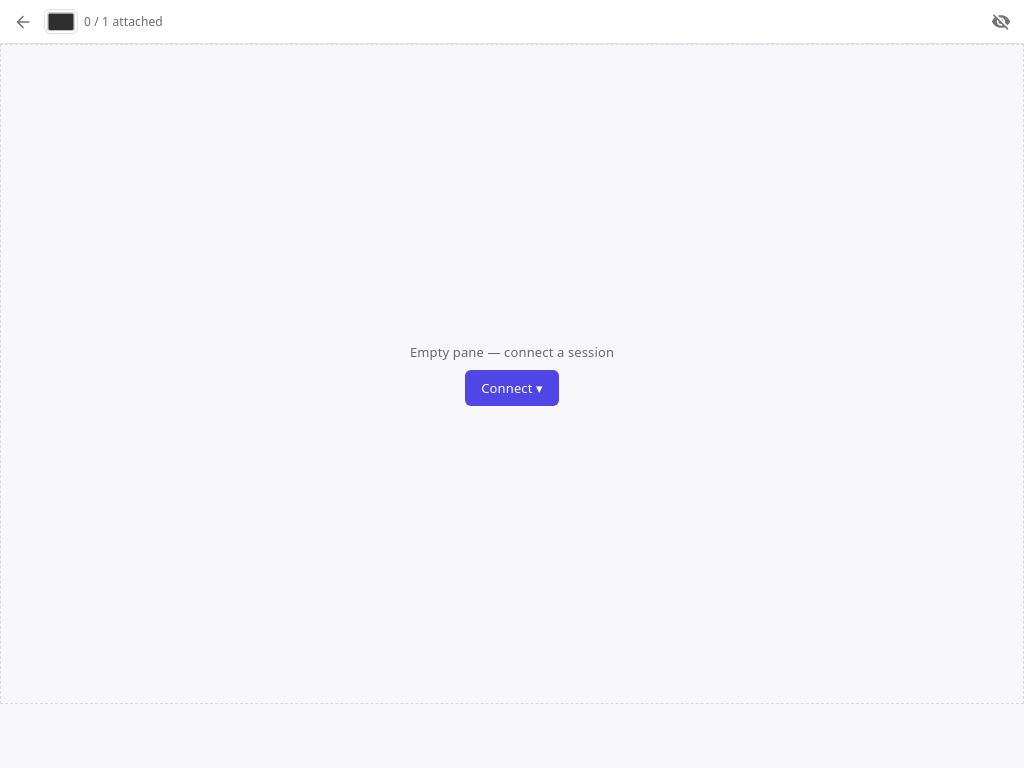
Scenario: TerminalLayout › opens connect menu when Connect button is clicked
Click the button "Connect ▾".
click(512, 388)  # box top-left (465, 370), bottom-right (559, 406)
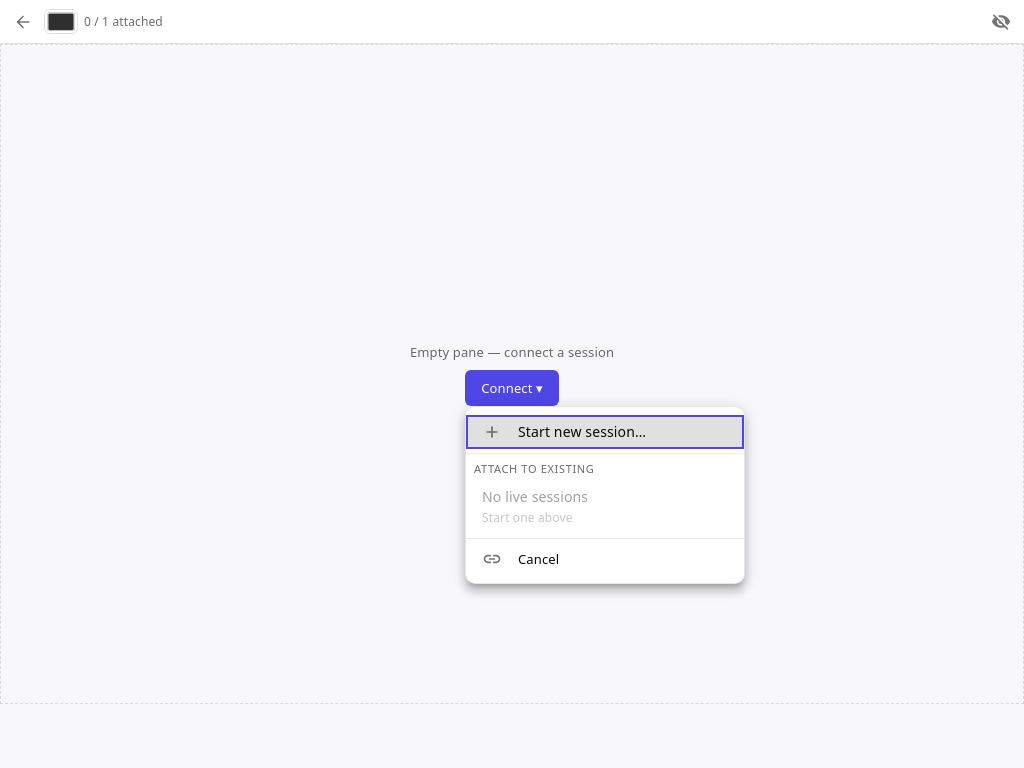
Result: the text "Start new session…" is shown at top-left (518, 422), bottom-right (646, 441)
